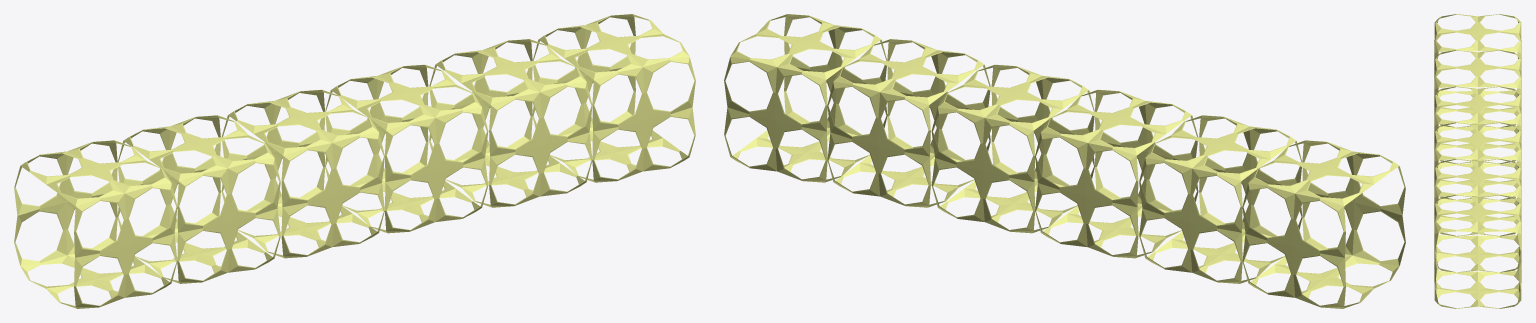
File: TunnelWireMesh.fbx
The picture shows the model from 3 angles, left to right: view 1: azimuth 30°, elevation 25°; view 2: azimuth 150°, elevation 25°; view 3: azimuth 270°, elevation 25°; orthographic projection. The views are drawn at different scales.
Parts seen in each view (by area): view 1: a, a.001, a.002; view 2: a, a.001, a.002; view 3: a.001, a.002, a.
Part boxes in pixels (box(x1,y1,x2,y2)): a: box(14, 115, 280, 308); a.001: box(429, 14, 695, 207); a.002: box(221, 64, 488, 258); a: box(1139, 115, 1405, 308); a.001: box(724, 14, 990, 207); a.002: box(931, 64, 1198, 258); a.001: box(1434, 159, 1521, 308); a.002: box(1434, 86, 1521, 236); a: box(1434, 14, 1521, 163).
Bounding box in the file's own units: 2364 × 403 × 403.
